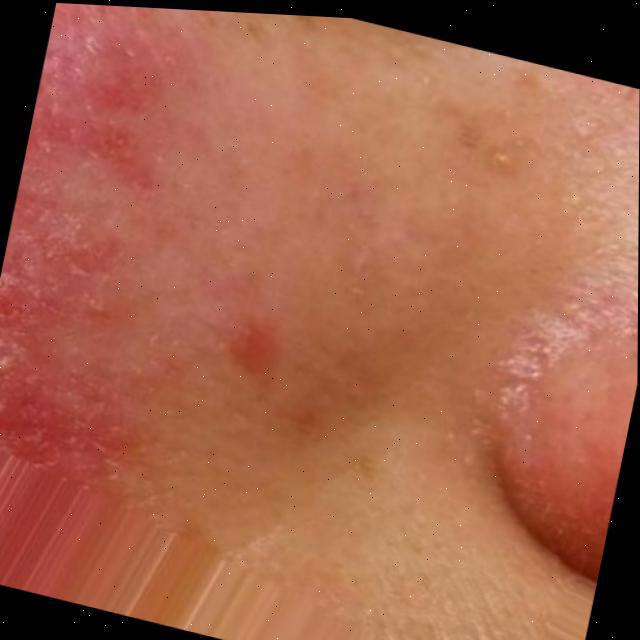Rosacea: (0, 1, 209, 446)
